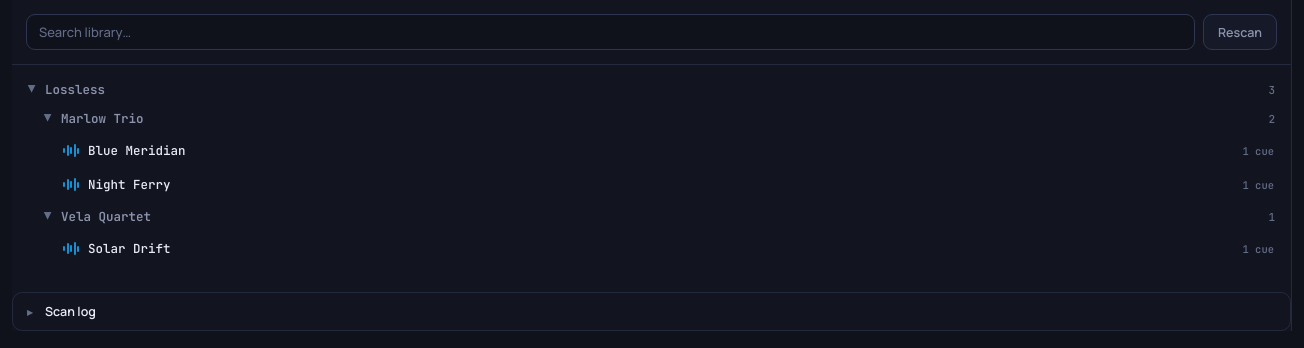
Test case: Sidebar search › keeps a matching folder whole, including albums that do not match themselves
Step 1. Type "vela" into the field labelled "Search library" → x=610, y=32, box [26,14,1195,50]
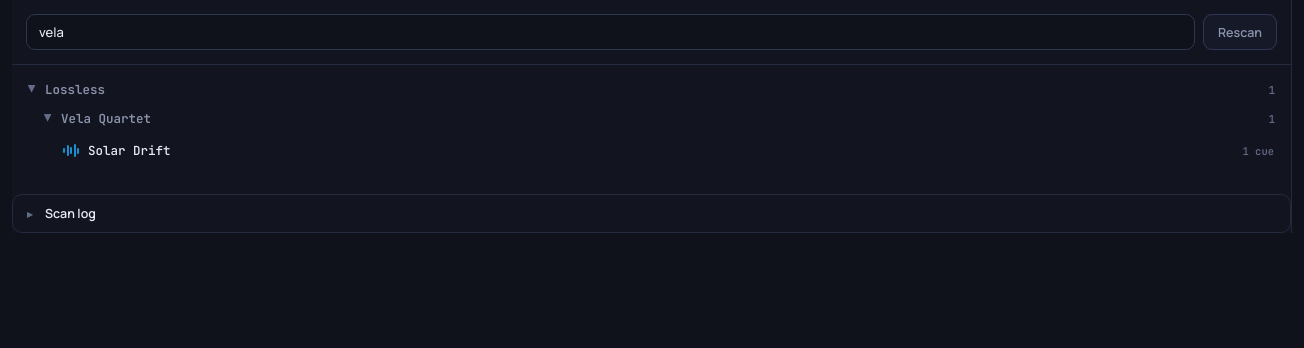
expect the text "Solar Drift" is shown: met, box [88,142,170,159]
expect the button "Marlow Trio" is gone: met
